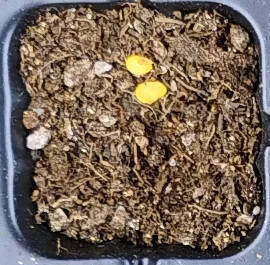chilli seed: (134, 80, 169, 105), (124, 53, 153, 77)
